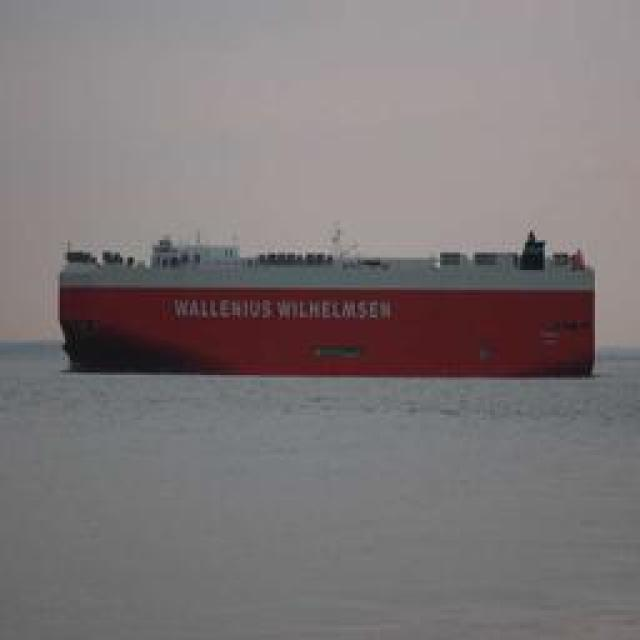ship: (61, 224, 594, 378)
